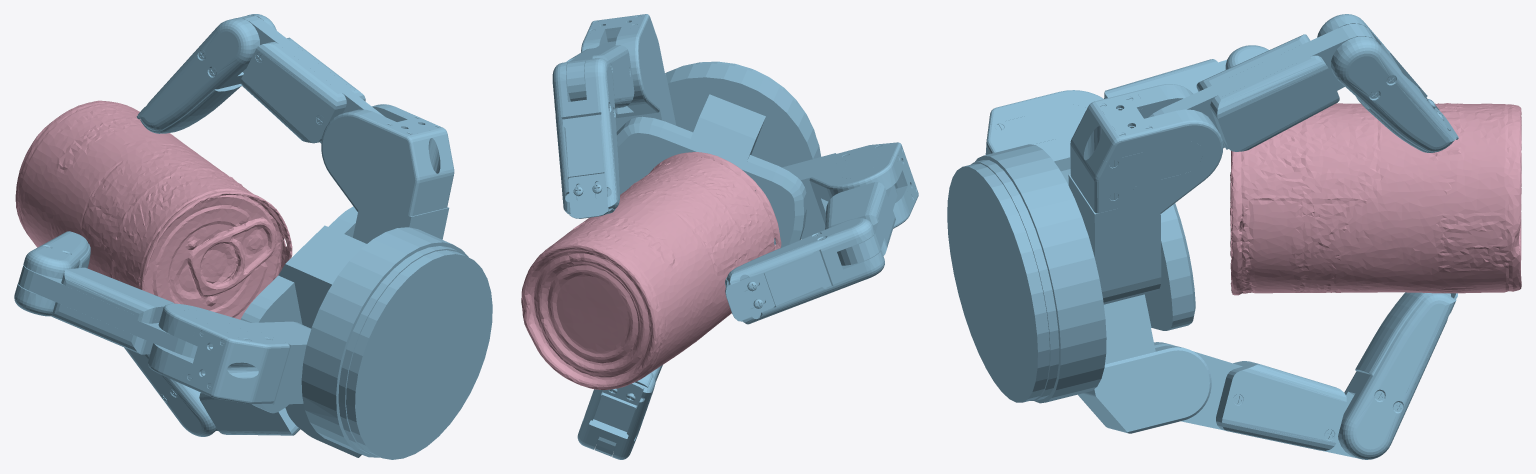
The picture shows the model from 3 angles, left to right: view 1: azimuth 30°, elevation 25°; view 2: azimuth 150°, elevation 25°; view 3: azimuth 270°, elevation 25°; orthographic projection. The views are drawn at different scales.
Visible parts, largest first — view 1: world; view 2: world; view 3: world.
Boxes of the visible parts, x1,y1,x2,y2 form: world: (14,14,492,459); world: (521,14,918,459); world: (947,14,1521,459).
Size of the model in its own units: 0.1693 by 0.1758 by 0.2006.
